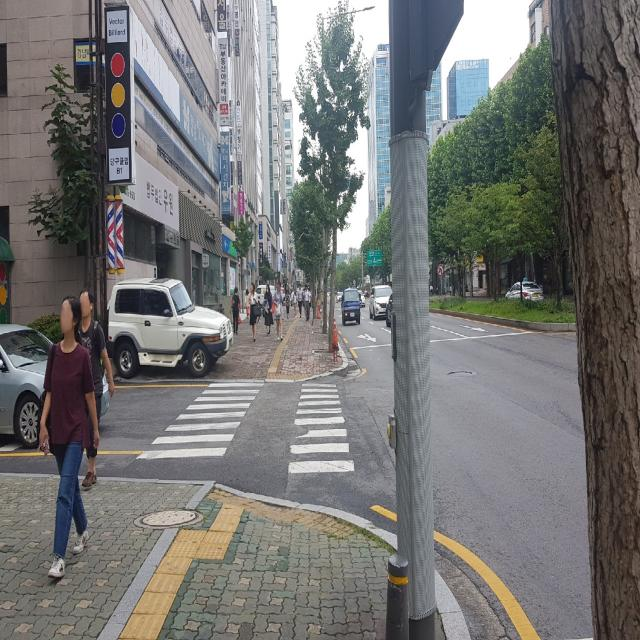횡단보도: (136, 382, 355, 474)
